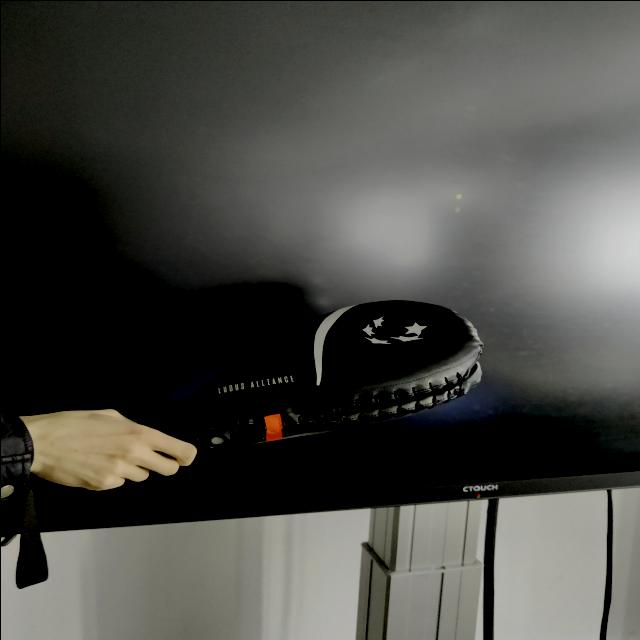paddle: (138, 296, 487, 454)
